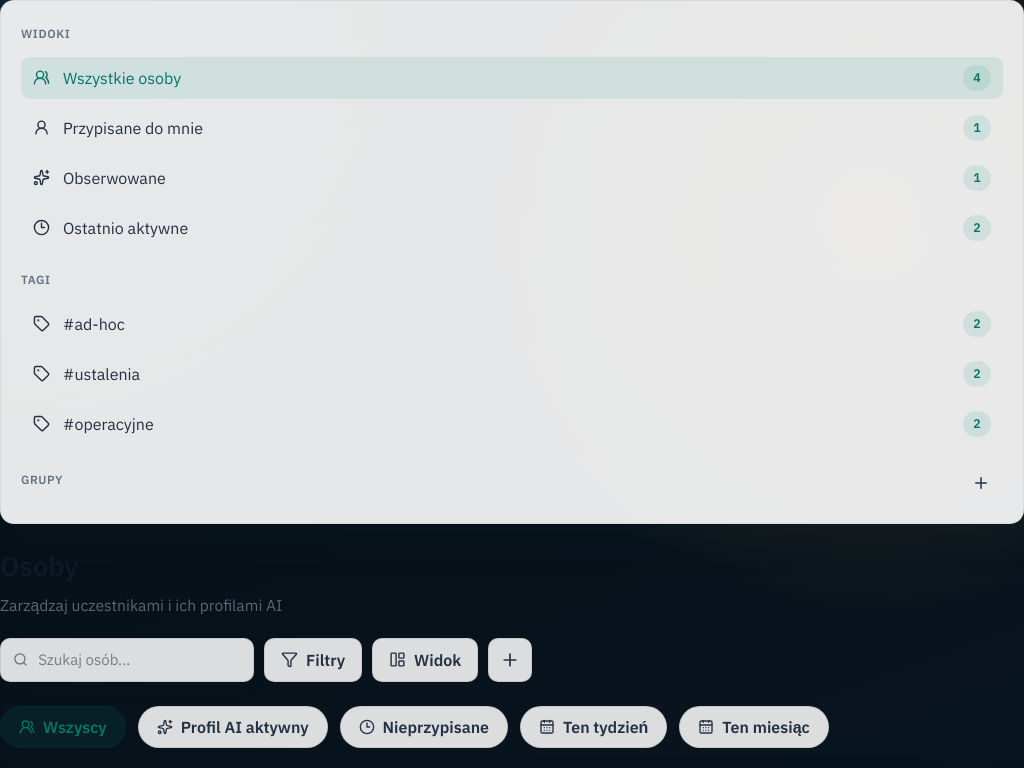
Scenario: PeopleTab directory view › opens add person modal from the directory action
Click the button named "Dodaj osobę". click: x=510, y=660
box: left=488, top=638, right=532, bottom=682
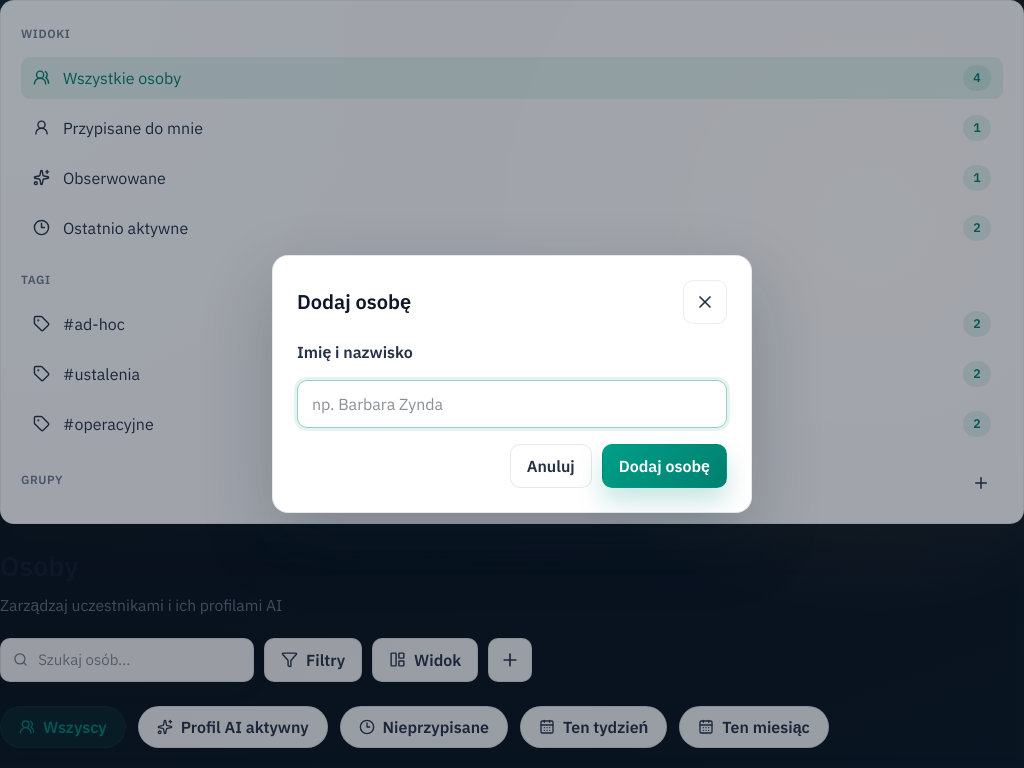
Now the dialog "Dodaj osobę Imię i nazwisko Anuluj Dodaj osobę" is shown, box left=272, top=255, right=752, bottom=513
